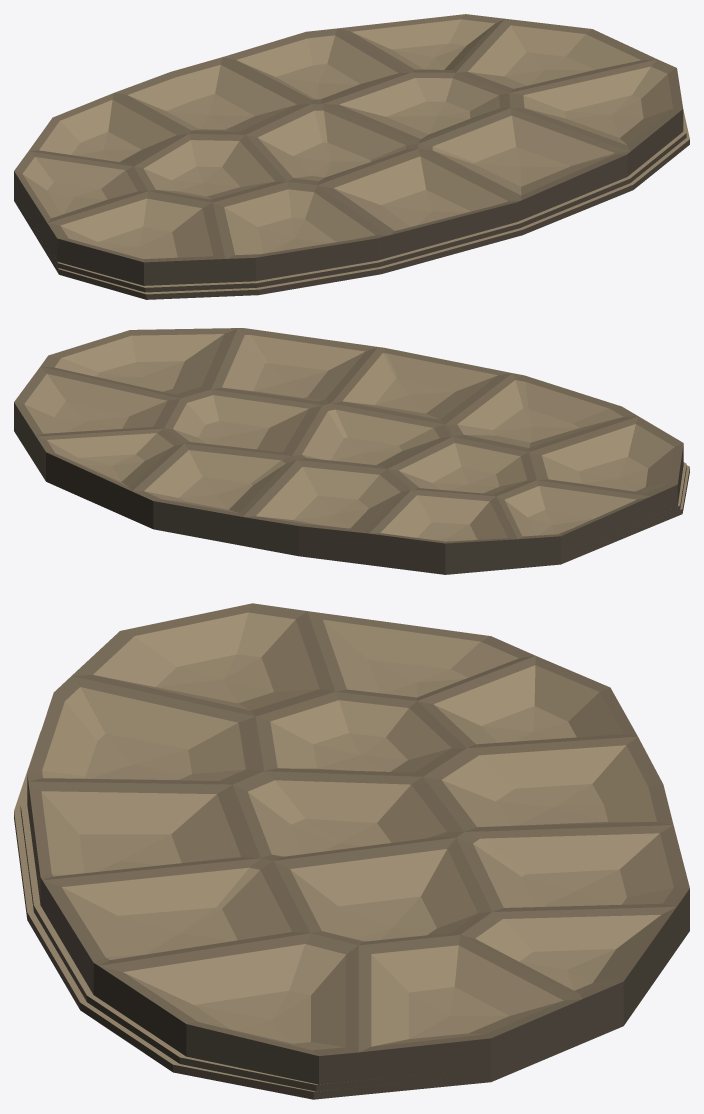
3 renders of one model, top to bottom at view 1: azimuth 30°, elevation 25°; view 2: azimuth 150°, elevation 25°; view 3: azimuth 270°, elevation 25°, orthographic. The views are drawn at different scales.
Parts seen in each view (by area): view 1: shallow-fossil-thallus-fragment; view 2: shallow-fossil-thallus-fragment; view 3: shallow-fossil-thallus-fragment.
Part boxes in pixels (x1,y1,x2,y2): shallow-fossil-thallus-fragment: (14,14,689,299); shallow-fossil-thallus-fragment: (14,328,689,574); shallow-fossil-thallus-fragment: (14,603,689,1099).
Size of the model in its own units: 0.0803 by 0.004 by 0.051.
